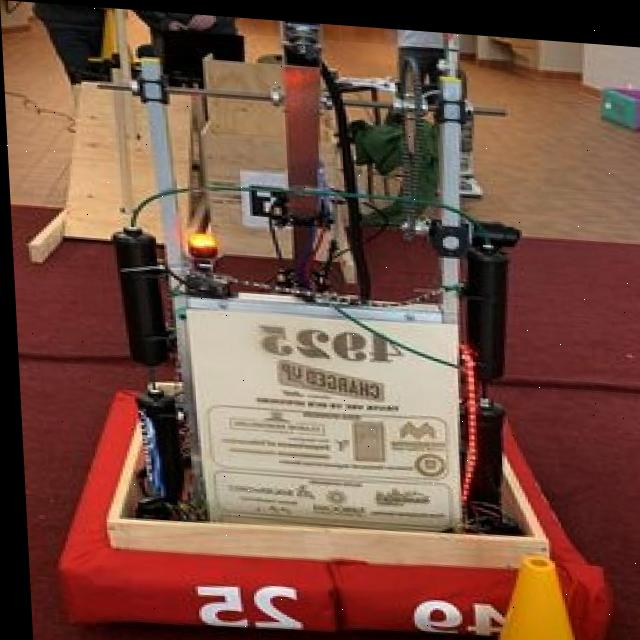robot: (10, 8, 638, 640)
